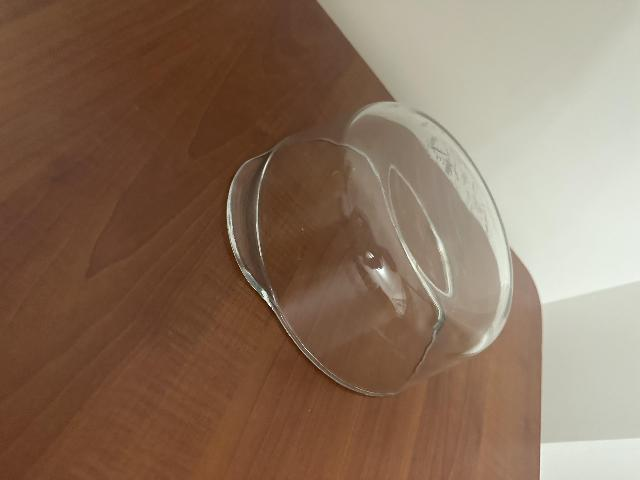Cam: (221, 100, 517, 400)
